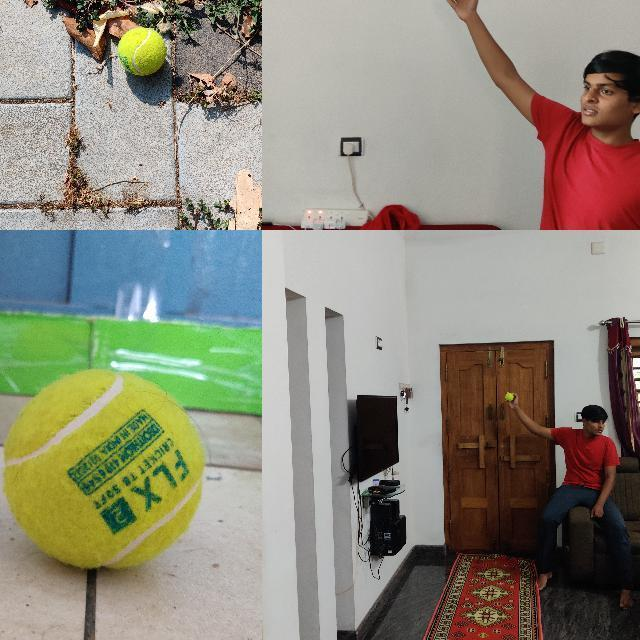tennis-ball: (2, 367, 206, 569), (118, 27, 166, 75), (504, 392, 514, 400)
